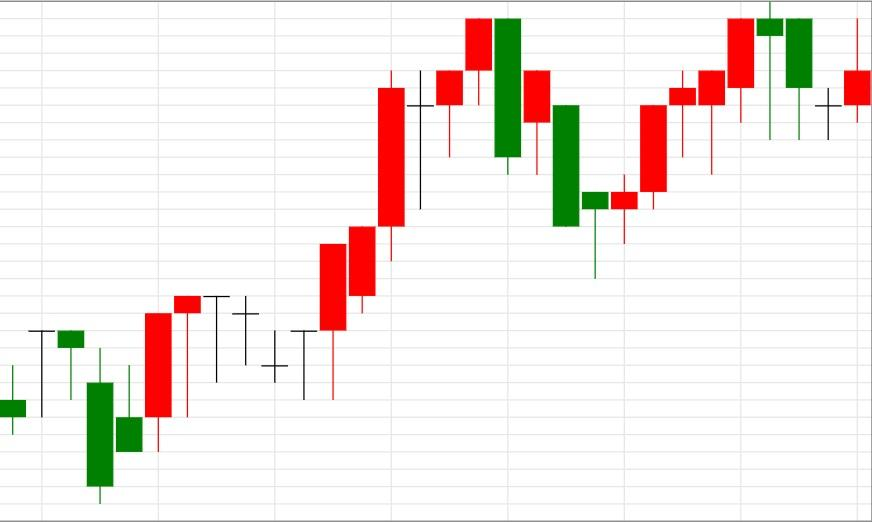bearish_engulfing_fall: (260, 18, 523, 401)
hammer_rise: (464, 17, 609, 279)
